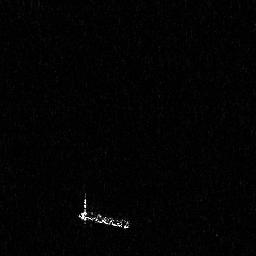ship: (77, 191, 132, 231)
